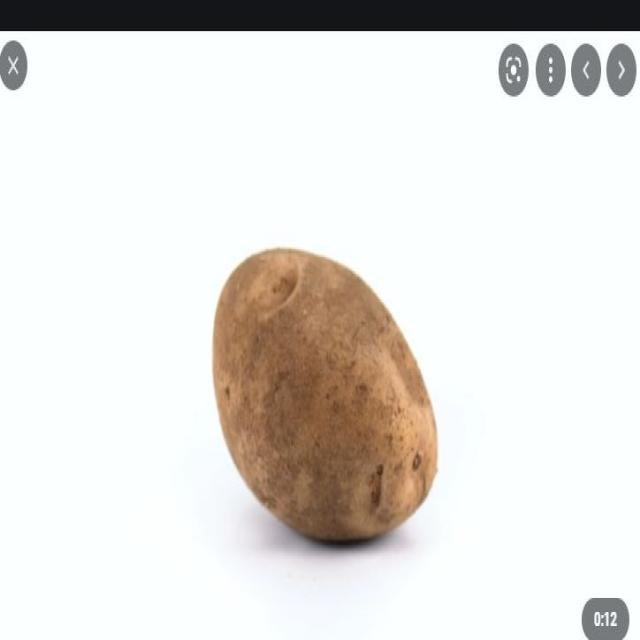potato: (212, 249, 439, 545)
